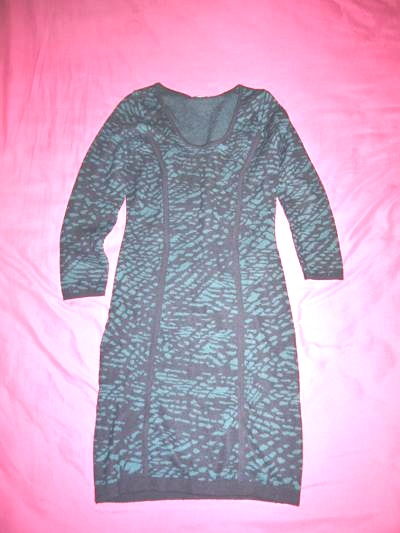Dress: (38, 72, 349, 514)
